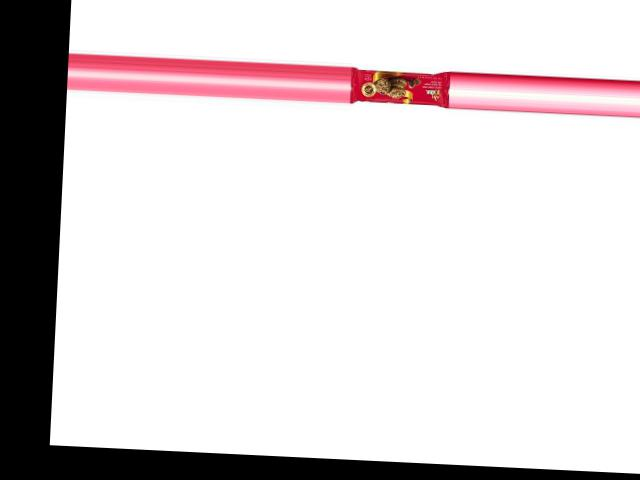chocolate: (351, 63, 451, 107)
